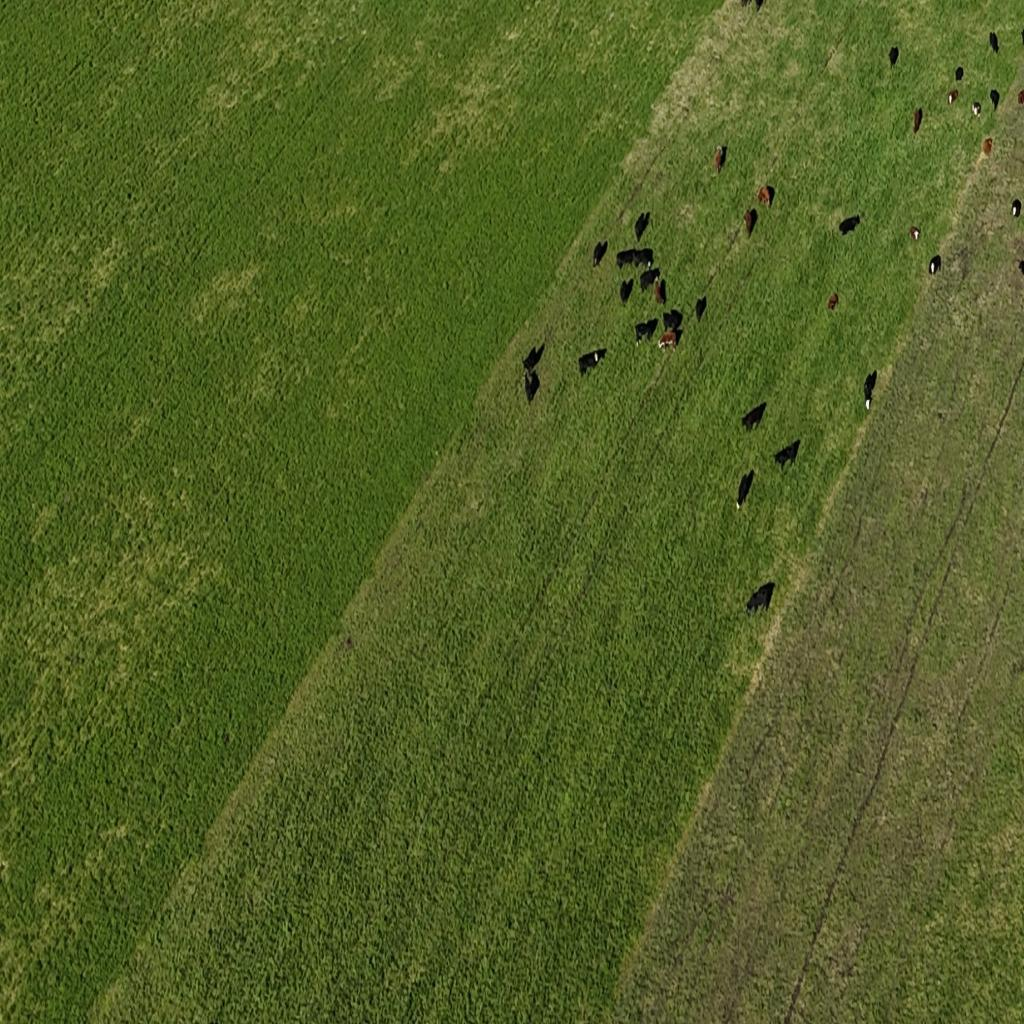cow: (745, 582, 774, 616), (772, 439, 801, 472), (741, 401, 767, 433), (735, 470, 754, 510), (523, 342, 543, 373), (524, 367, 539, 402), (634, 211, 650, 243), (579, 347, 597, 375), (640, 268, 660, 293), (864, 374, 876, 414), (838, 214, 860, 235), (592, 239, 608, 267), (635, 319, 652, 344), (662, 305, 679, 330), (619, 276, 634, 304), (616, 248, 636, 268), (744, 208, 757, 237), (657, 332, 676, 351), (633, 248, 651, 267), (715, 144, 726, 171), (694, 295, 704, 324), (762, 185, 775, 207), (929, 255, 942, 276), (988, 32, 1000, 54), (914, 108, 923, 134), (990, 89, 1000, 111), (1012, 198, 1022, 219), (888, 46, 898, 67), (947, 89, 960, 105), (984, 136, 992, 157), (828, 293, 837, 311), (910, 226, 920, 242), (973, 105, 982, 122), (955, 66, 963, 82), (1020, 90, 1024, 104)
